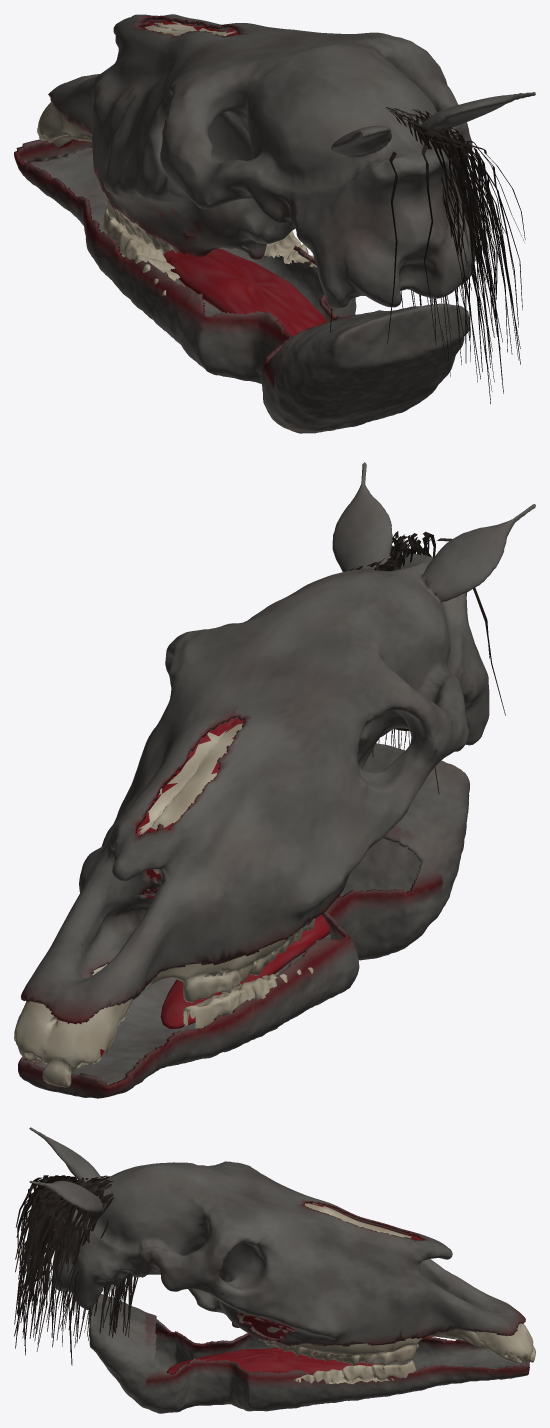
The model's file is long-horse-head.glb.
3 renders of one model, top to bottom at view 1: azimuth 30°, elevation 25°; view 2: azimuth 150°, elevation 25°; view 3: azimuth 270°, elevation 25°, orthographic. The views are drawn at different scales.
Parts seen in each view (by area): view 1: Mask_Torn_equine_mask_skin, Jaw_Torn_equine_mask_skin, Mask_Matted_black_horse_mane, Jaw_Wet_torn_tissue, Mask_Damp_exposed_ivory, Jaw_Damp_exposed_ivory; view 2: Mask_Torn_equine_mask_skin, Jaw_Torn_equine_mask_skin, Mask_Damp_exposed_ivory, Jaw_Wet_torn_tissue, Jaw_Damp_exposed_ivory, Mask_Matted_black_horse_mane, Mask_Wet_torn_tissue; view 3: Mask_Torn_equine_mask_skin, Jaw_Torn_equine_mask_skin, Mask_Matted_black_horse_mane, Mask_Damp_exposed_ivory, Jaw_Wet_torn_tissue, Jaw_Damp_exposed_ivory, Mask_Wet_torn_tissue.
Boxes of the visible parts, bbox=[...] form: Mask_Torn_equine_mask_skin: bbox=[48, 14, 535, 308]; Jaw_Torn_equine_mask_skin: bbox=[14, 139, 469, 433]; Mask_Matted_black_horse_mane: bbox=[330, 107, 525, 403]; Jaw_Wet_torn_tissue: bbox=[163, 248, 327, 336]; Mask_Damp_exposed_ivory: bbox=[37, 21, 235, 253]; Jaw_Damp_exposed_ivory: bbox=[103, 206, 316, 295]; Mask_Torn_equine_mask_skin: bbox=[20, 462, 535, 1024]; Jaw_Torn_equine_mask_skin: bbox=[18, 743, 469, 1098]; Mask_Damp_exposed_ivory: bbox=[14, 724, 315, 1087]; Jaw_Wet_torn_tissue: bbox=[160, 896, 339, 1028]; Jaw_Damp_exposed_ivory: bbox=[183, 967, 313, 1028]; Mask_Matted_black_horse_mane: bbox=[350, 531, 505, 794]; Mask_Wet_torn_tissue: bbox=[100, 717, 243, 1057]; Mask_Torn_equine_mask_skin: bbox=[29, 1127, 525, 1346]; Jaw_Torn_equine_mask_skin: bbox=[89, 1294, 529, 1413]; Mask_Matted_black_horse_mane: bbox=[14, 1175, 138, 1365]; Mask_Damp_exposed_ivory: bbox=[238, 1203, 535, 1365]; Jaw_Wet_torn_tissue: bbox=[166, 1347, 381, 1374]; Jaw_Damp_exposed_ivory: bbox=[294, 1360, 415, 1384]; Mask_Wet_torn_tissue: bbox=[239, 1203, 433, 1354].
Bounding box in the file's own units: 0.6148 × 0.8223 × 1.57.
